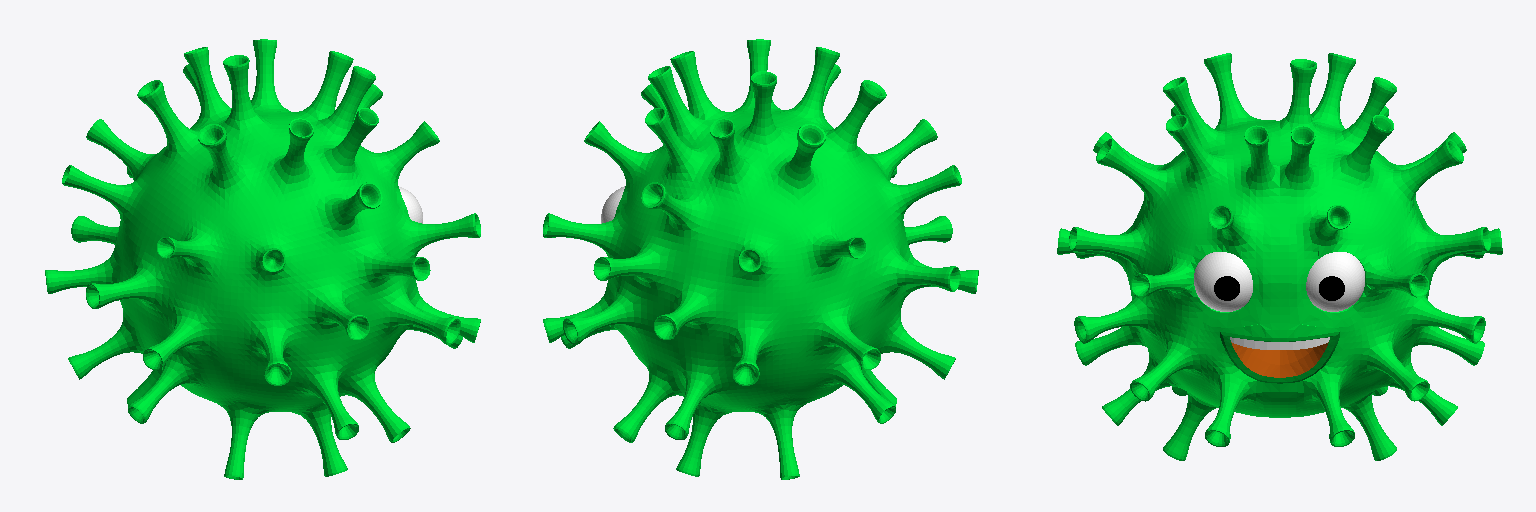
The picture shows the model from 3 angles: view 1: azimuth 30°, elevation 25°; view 2: azimuth 150°, elevation 25°; view 3: azimuth 270°, elevation 25°; orthographic projection.
Parts seen in each view (by area): view 1: Cube_Cube.001; view 2: Cube_Cube.001; view 3: Cube_Cube.001.
Boxes of the visible parts, x1,y1,x2,y2 form: Cube_Cube.001: [45, 39, 480, 479]; Cube_Cube.001: [543, 39, 978, 479]; Cube_Cube.001: [1057, 53, 1502, 460].
Bounding box in the file's own units: 2.21 × 2.28 × 2.42.
1 materials, 1 textured.